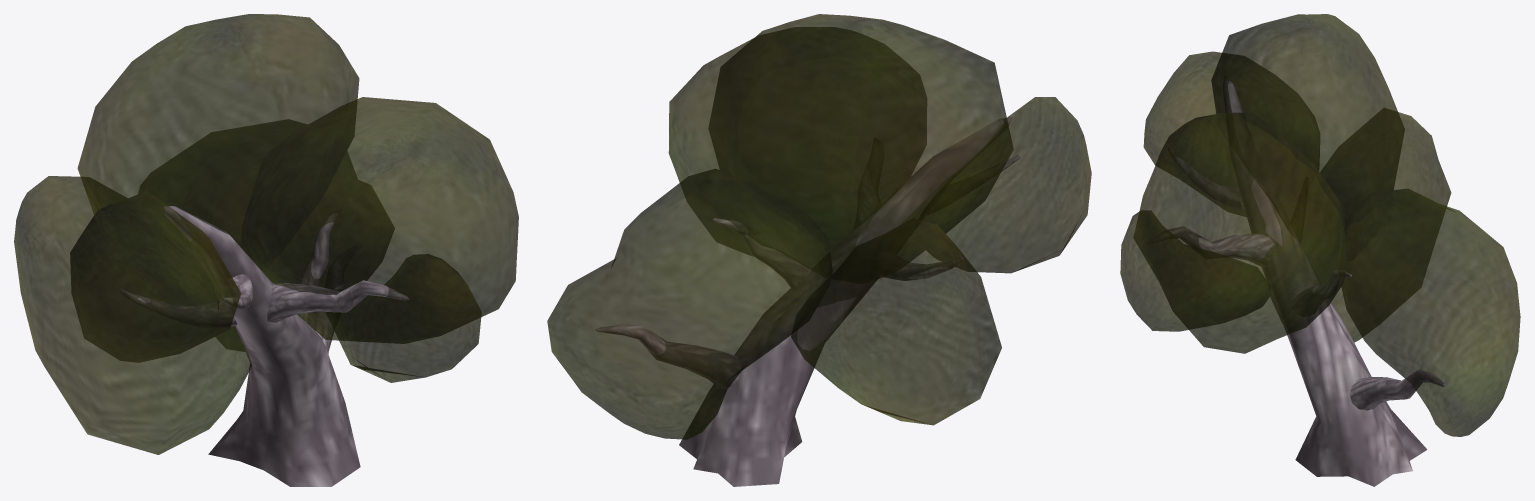
The model's file is Tree02.glb.
3 renders of one model, left to right at view 1: azimuth 30°, elevation 25°; view 2: azimuth 150°, elevation 25°; view 3: azimuth 270°, elevation 25°, orthographic. The views are drawn at different scales.
Parts seen in each view (by area): view 1: Tree02; view 2: Tree02; view 3: Tree02.
Boxes of the visible parts, x1=… form: Tree02: x1=14, y1=14, x2=518, y2=486; Tree02: x1=547, y1=14, x2=1091, y2=486; Tree02: x1=1120, y1=14, x2=1520, y2=486.
Bounding box in the file's own units: 5.88 × 6.07 × 5.57.
2 materials, 2 textured.
